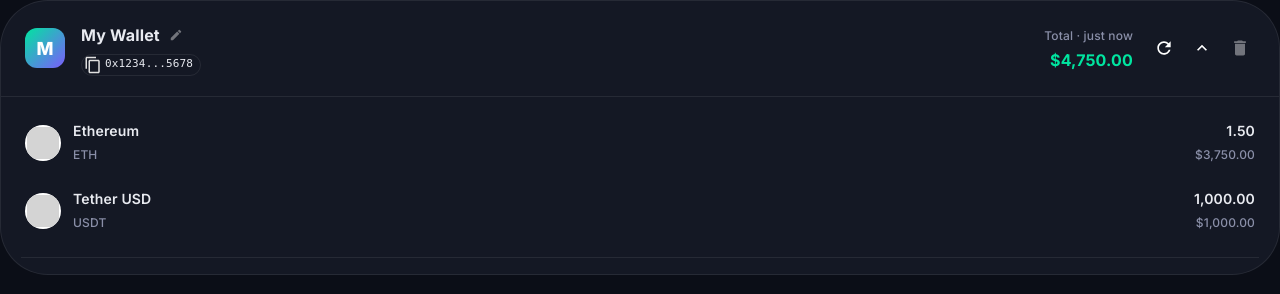
Test case: WalletCard › cancels editing on close button click
Click the button named "edit label" at (176, 35), box top-left (164, 23), bottom-right (188, 47)
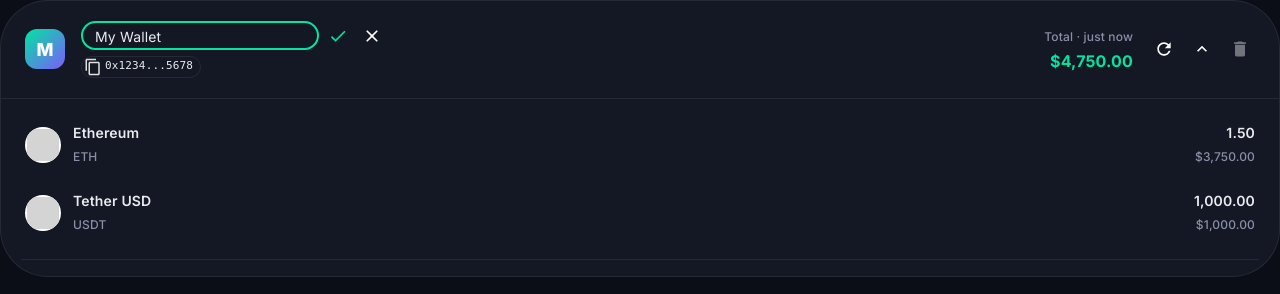
Expected: the field with placeholder "Wallet label" is shown, top-left (81, 22), bottom-right (319, 50)
Expected: the 2nd button is shown
Click the 2nd button at (372, 36), box top-left (357, 21), bottom-right (387, 51)
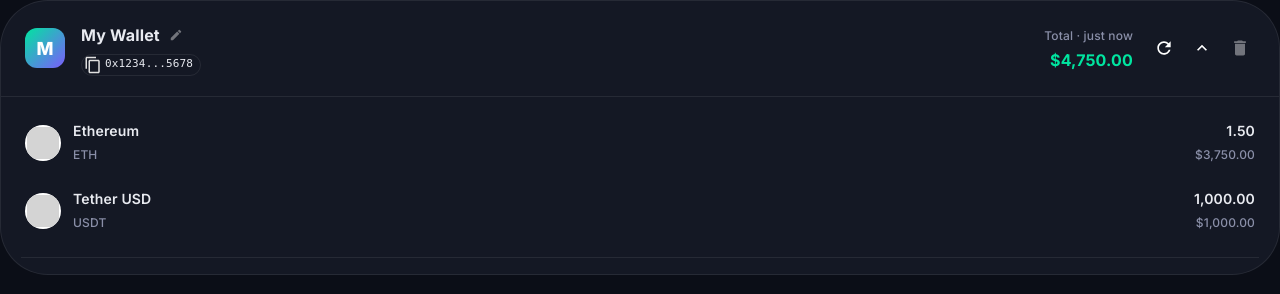
Expected: the heading "My Wallet" is shown, top-left (81, 21), bottom-right (160, 49)
